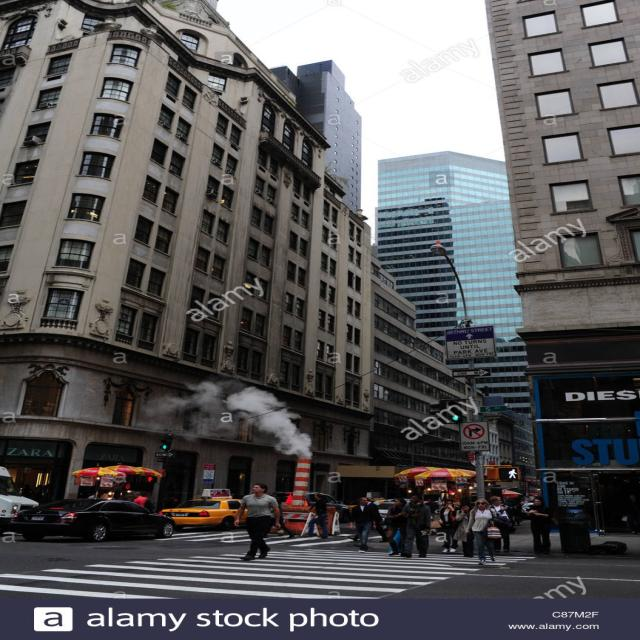body: (360, 494, 529, 520), (231, 481, 285, 561), (462, 497, 513, 566), (398, 494, 434, 559), (522, 496, 556, 556), (346, 496, 388, 543), (485, 494, 515, 554), (347, 496, 378, 554), (385, 497, 407, 557), (452, 503, 476, 558), (437, 499, 460, 553), (303, 493, 330, 538), (75, 489, 151, 502), (387, 530, 411, 553), (423, 496, 440, 522), (132, 492, 147, 507), (87, 492, 96, 499)
